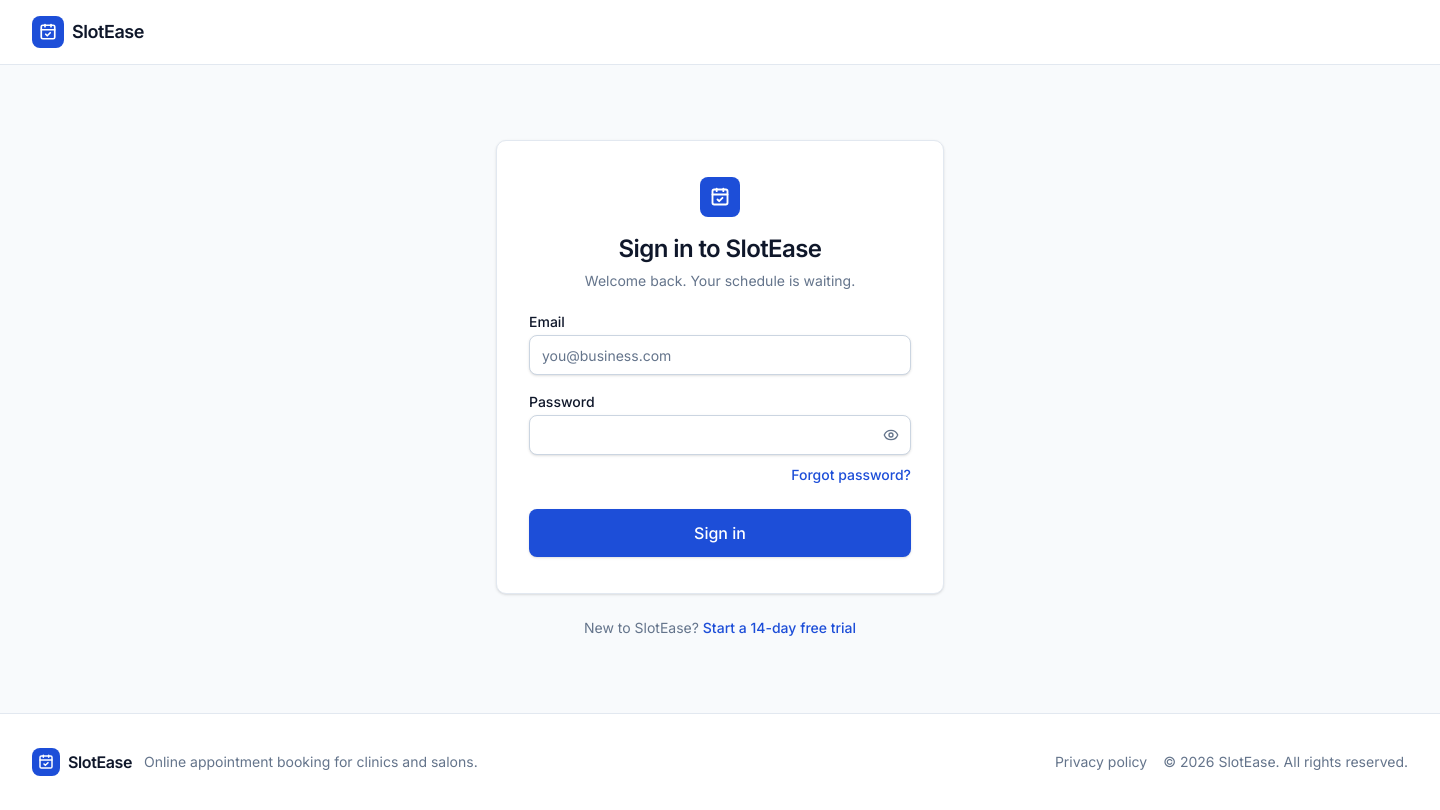
Scenario: LoginPage › shows the server message for invalid credentials
The width and height of the screenshot is (1440, 810).
Type "owner@glow.in" into the field labelled "Email" at (720, 355), box [529,335,911,375]
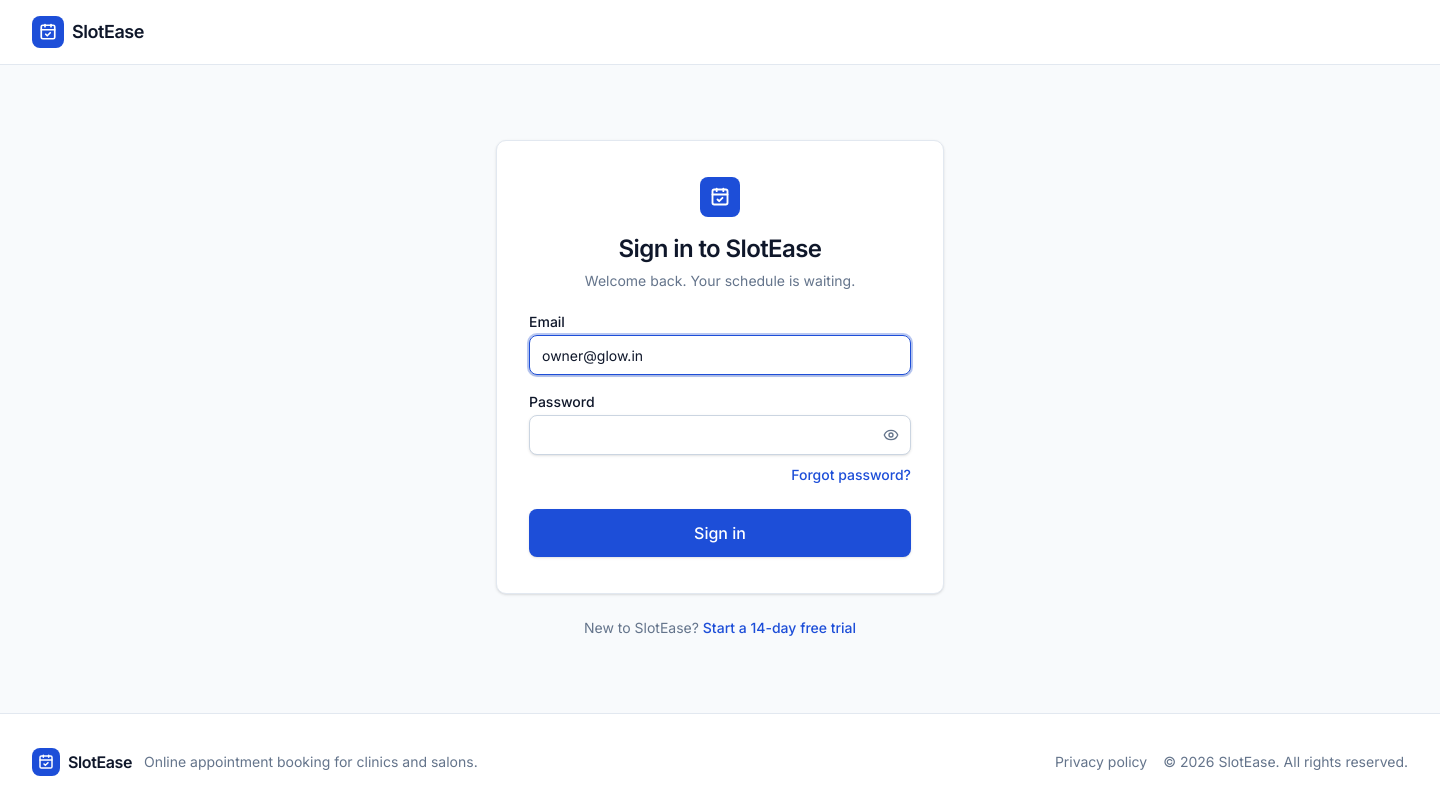
Type "wrongpass1" into the password field labelled "Password" at (720, 435), box [529,415,911,455]
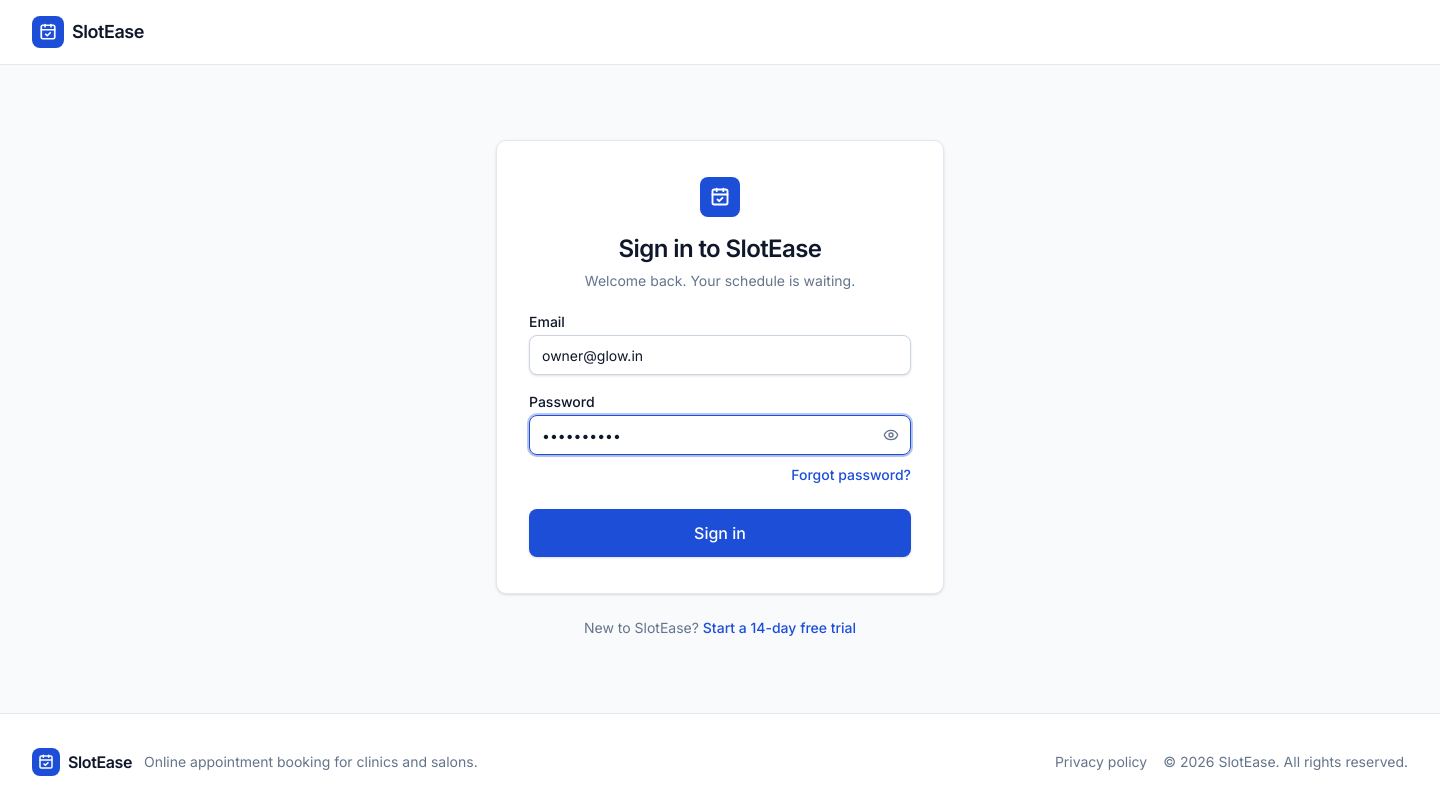
Click the button "Sign in" at (720, 533), box [529,509,911,557]
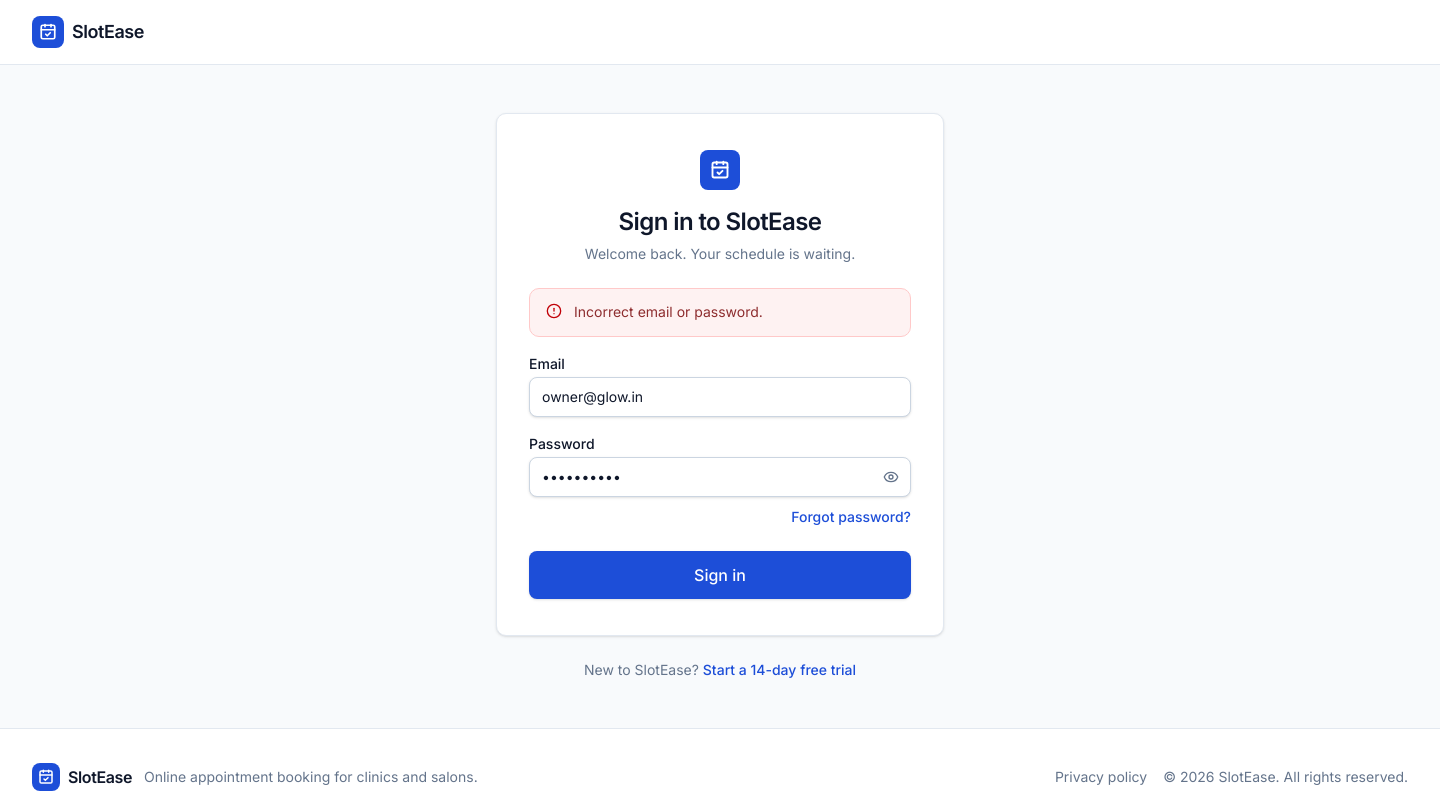
Expected: the message reads "Incorrect email or password.", [574,303,763,320]
